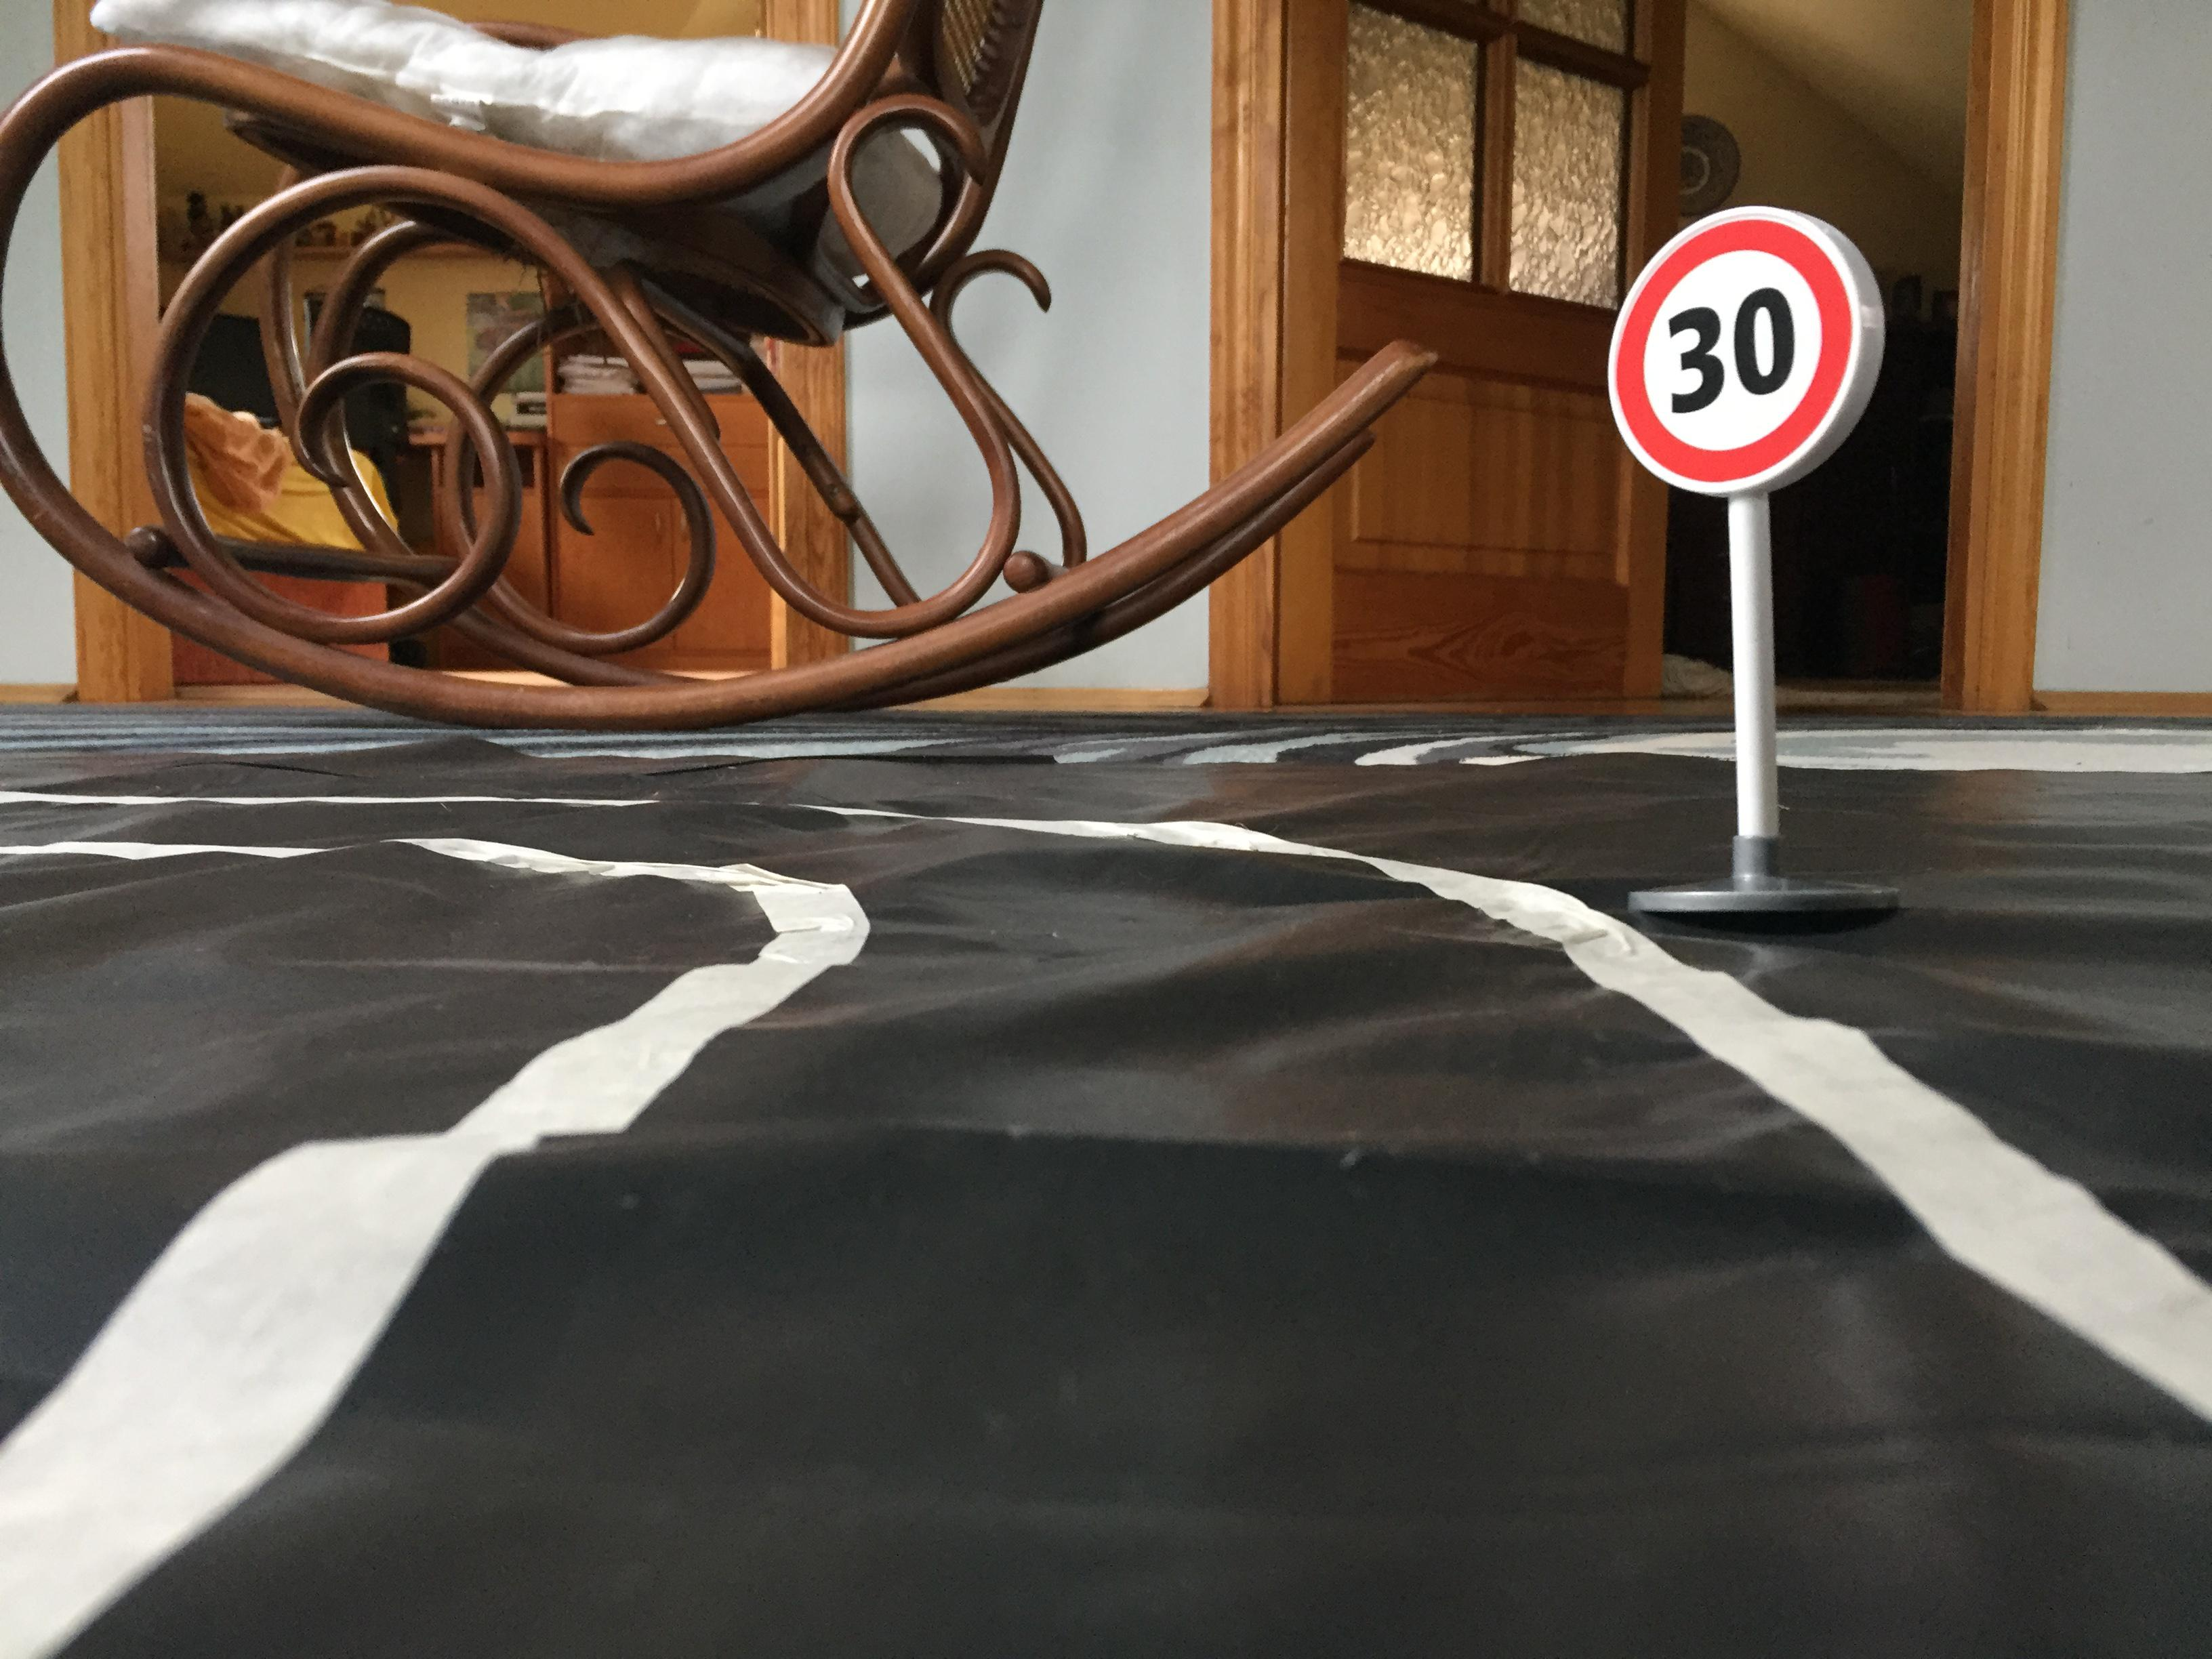speed: (1604, 195, 1892, 512)
